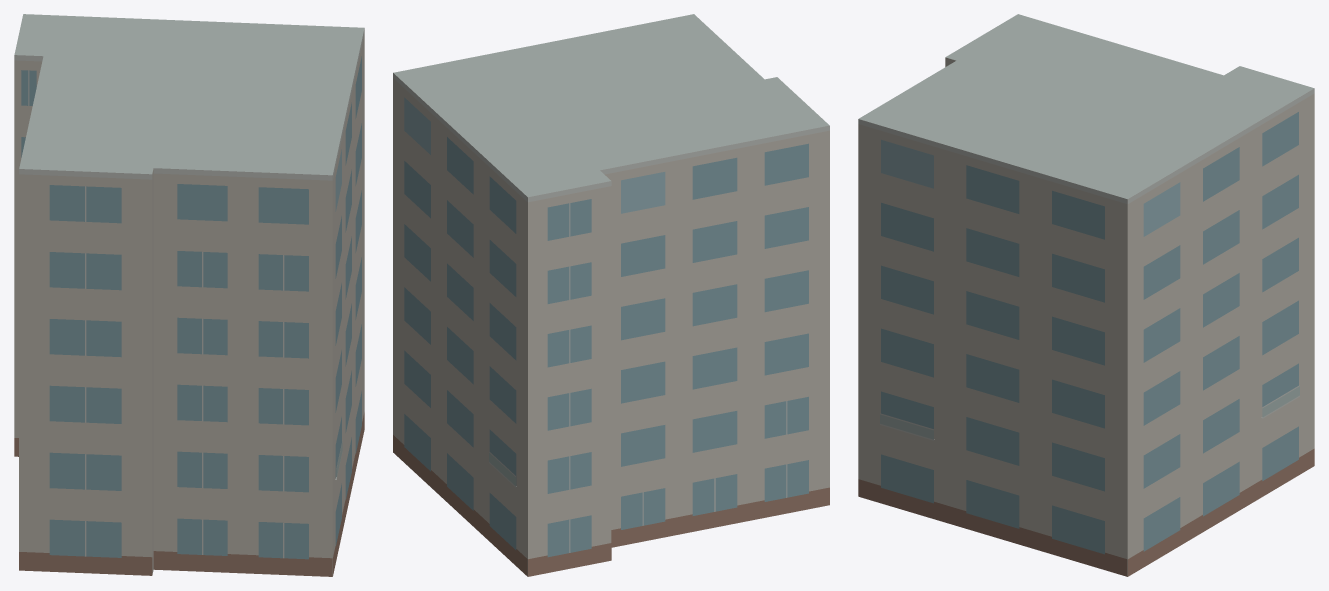
Rendered from survey-upis-33024683.glb.
The picture shows the model from 3 angles, left to right: view 1: azimuth 30°, elevation 25°; view 2: azimuth 150°, elevation 25°; view 3: azimuth 270°, elevation 25°; orthographic projection. The views are drawn at different scales.
Parts seen in each view (by area): view 1: survey-upis-33024683.tmp; view 2: survey-upis-33024683.tmp; view 3: survey-upis-33024683.tmp.
Part boxes in pixels (x1=…): survey-upis-33024683.tmp: x1=14, y1=14, x2=364, y2=576; survey-upis-33024683.tmp: x1=393, y1=14, x2=829, y2=576; survey-upis-33024683.tmp: x1=858, y1=14, x2=1314, y2=576.
Size of the model in its own units: 19.26 by 18.3 by 20.05.
